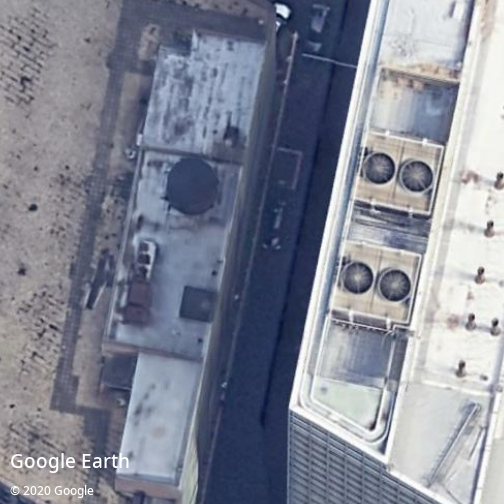Vent: (401, 161, 434, 193), (342, 261, 374, 294), (379, 270, 411, 302), (364, 153, 396, 184)
